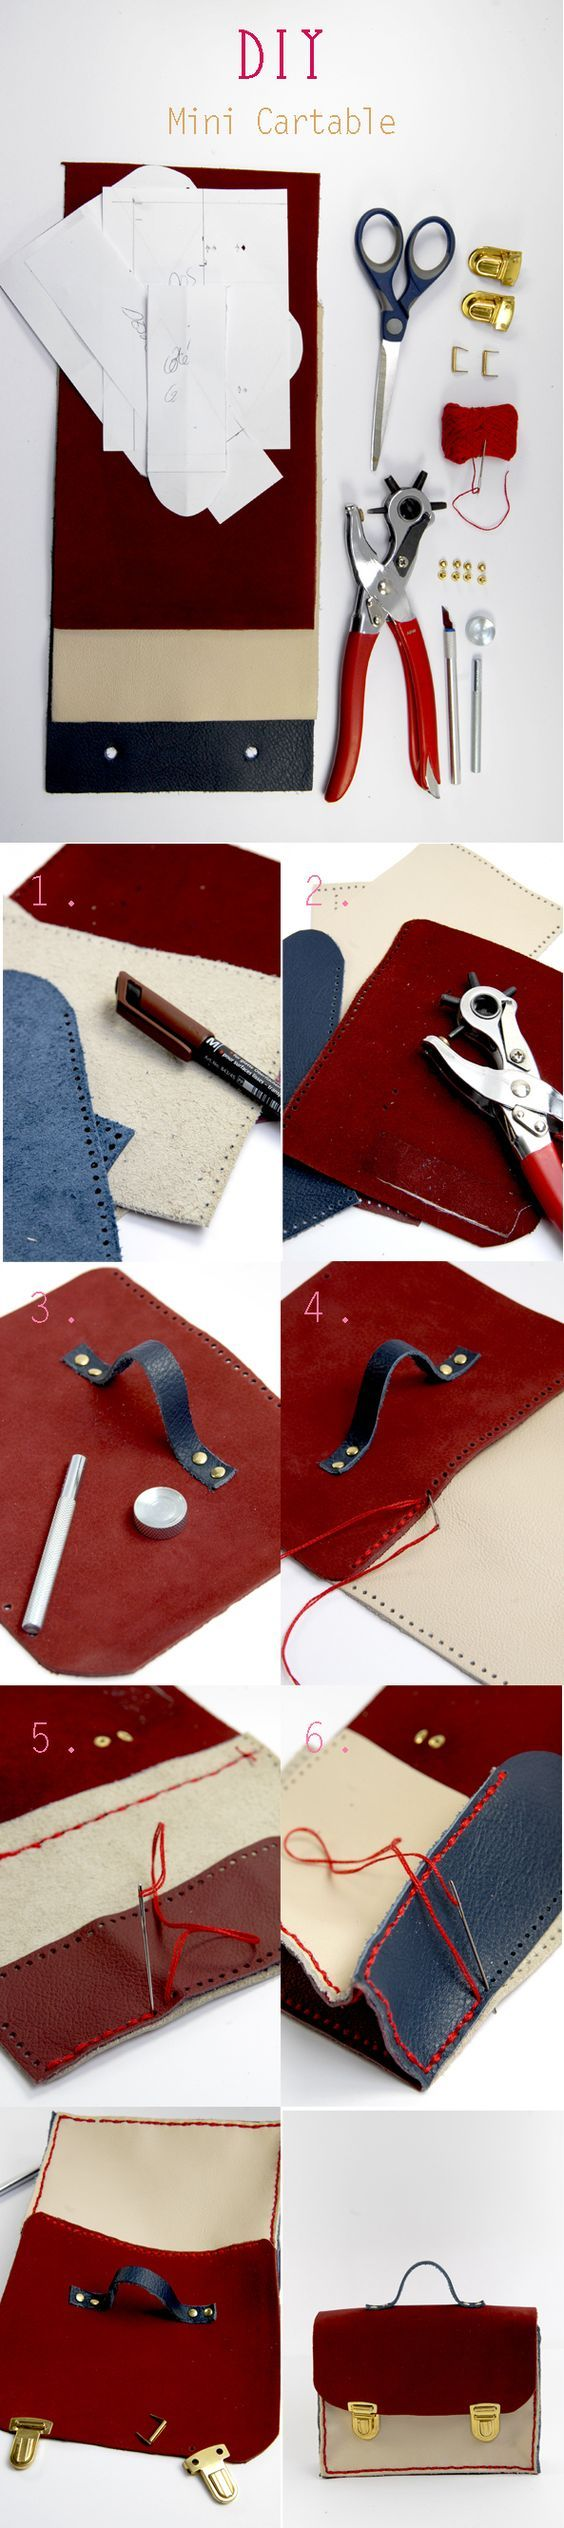cuero: (2, 829, 553, 1674)
